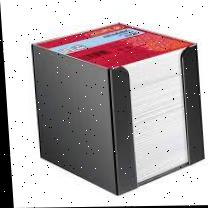cube: (31, 23, 204, 196)
